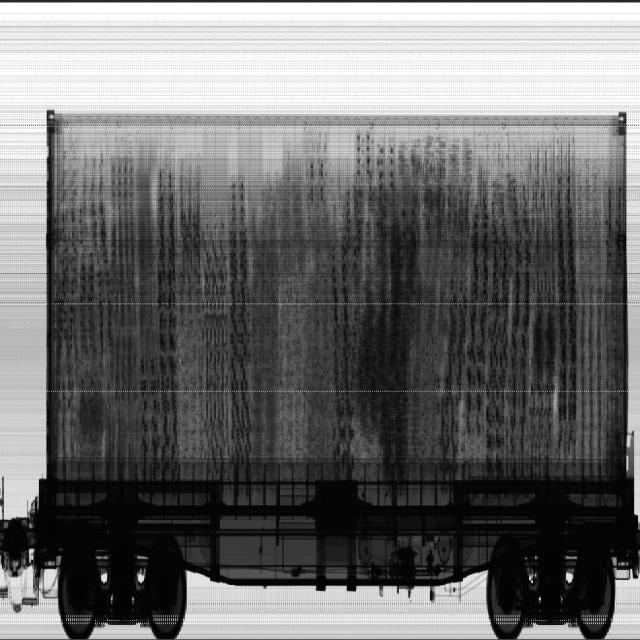office supplies: (150, 303, 256, 488)
